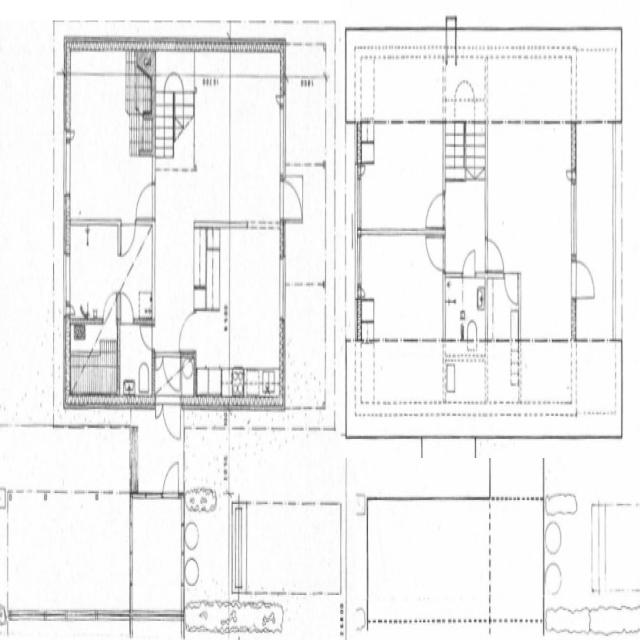door: (118, 220, 144, 281), (456, 227, 481, 284), (571, 256, 597, 303), (155, 350, 181, 397), (279, 176, 303, 223), (422, 189, 446, 232), (133, 179, 156, 223), (424, 230, 446, 274), (160, 400, 182, 442), (177, 310, 198, 353), (484, 235, 505, 276), (161, 458, 181, 499), (118, 217, 136, 258), (503, 269, 520, 309), (460, 246, 478, 281), (117, 292, 135, 326), (138, 321, 155, 353), (165, 70, 184, 95)
window: (353, 168, 366, 304), (568, 174, 580, 260), (276, 96, 288, 180), (360, 224, 418, 240), (353, 229, 365, 300), (9, 607, 47, 628), (276, 251, 286, 323), (62, 132, 72, 200), (62, 250, 71, 310), (141, 487, 164, 501)
zone: (196, 226, 283, 404), (198, 54, 282, 226), (66, 56, 147, 222), (486, 122, 574, 271), (357, 122, 444, 231), (357, 232, 442, 342), (282, 230, 327, 412), (67, 221, 118, 381), (130, 494, 183, 617), (601, 502, 640, 606), (443, 180, 485, 275), (67, 324, 118, 402), (119, 220, 153, 320), (118, 322, 153, 407), (453, 276, 486, 347), (444, 275, 472, 350), (180, 351, 196, 402)
